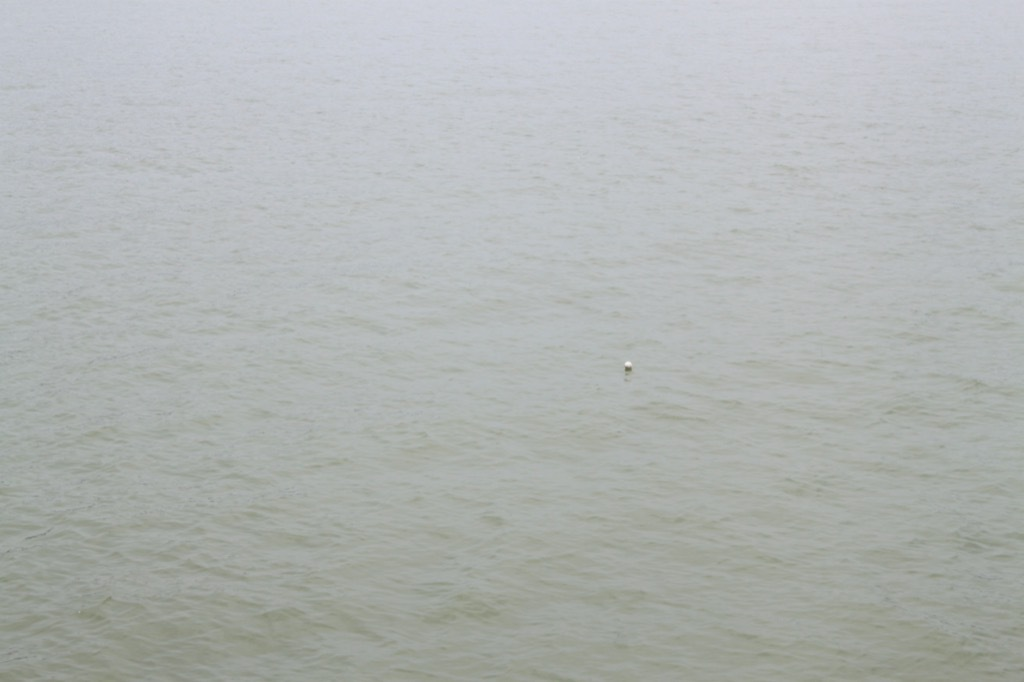plastic: (614, 355, 643, 388)
